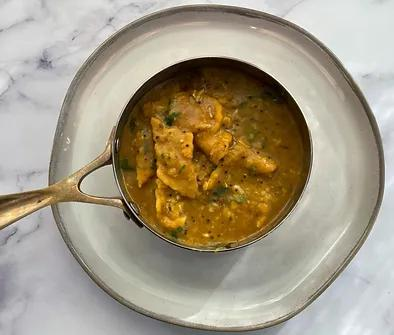varan: (153, 76, 294, 228)
